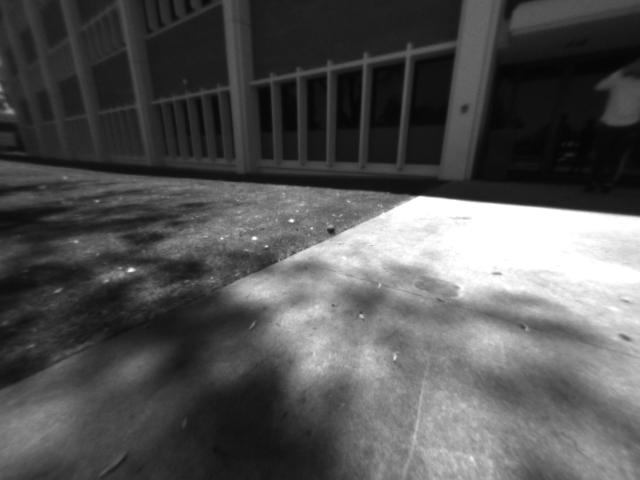dogtoy: (319, 216, 343, 239)
